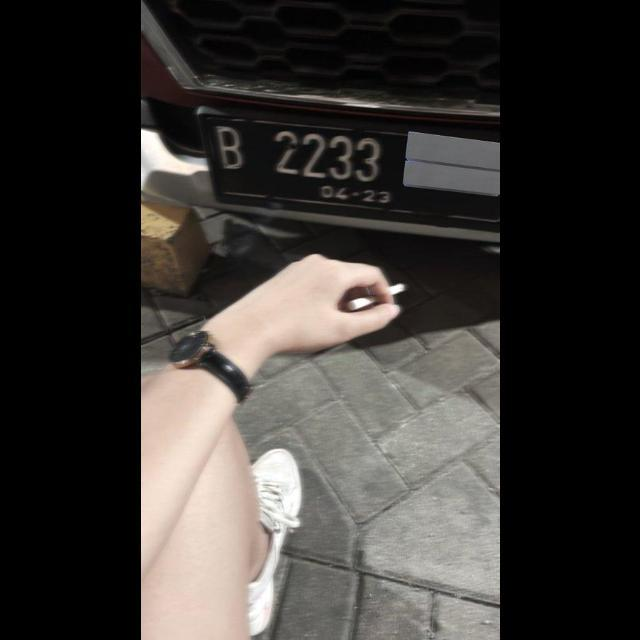rokok: (341, 278, 412, 322)
